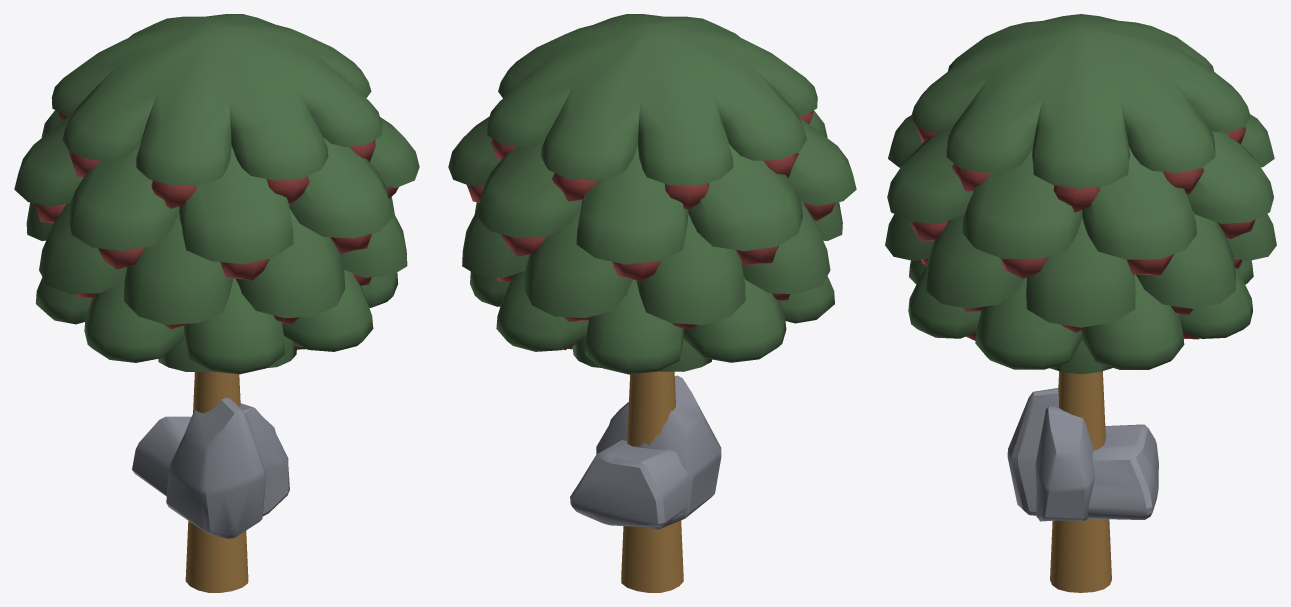
File: tree2.glb
3 views of the same model, side by side, from view 1: azimuth 30°, elevation 25°; view 2: azimuth 150°, elevation 25°; view 3: azimuth 270°, elevation 25° (orthographic).
Parts seen in each view (by area): view 1: Tree_Fruit, Rock_2, Rock_1; view 2: Tree_Fruit, Rock_1, Rock_2; view 3: Tree_Fruit, Rock_2, Rock_1.
Part boxes in pixels (x1,y1,x2,y2): Tree_Fruit: (14,14,419,592); Rock_2: (166,397,289,538); Rock_1: (132,416,191,496); Tree_Fruit: (448,14,856,592); Rock_1: (570,440,689,527); Rock_2: (596,375,721,529); Tree_Fruit: (885,14,1276,592); Rock_2: (1007,388,1108,521); Rock_1: (1087,424,1158,519).
Size of the model in its own units: 5.53 by 8.63 by 5.55.
